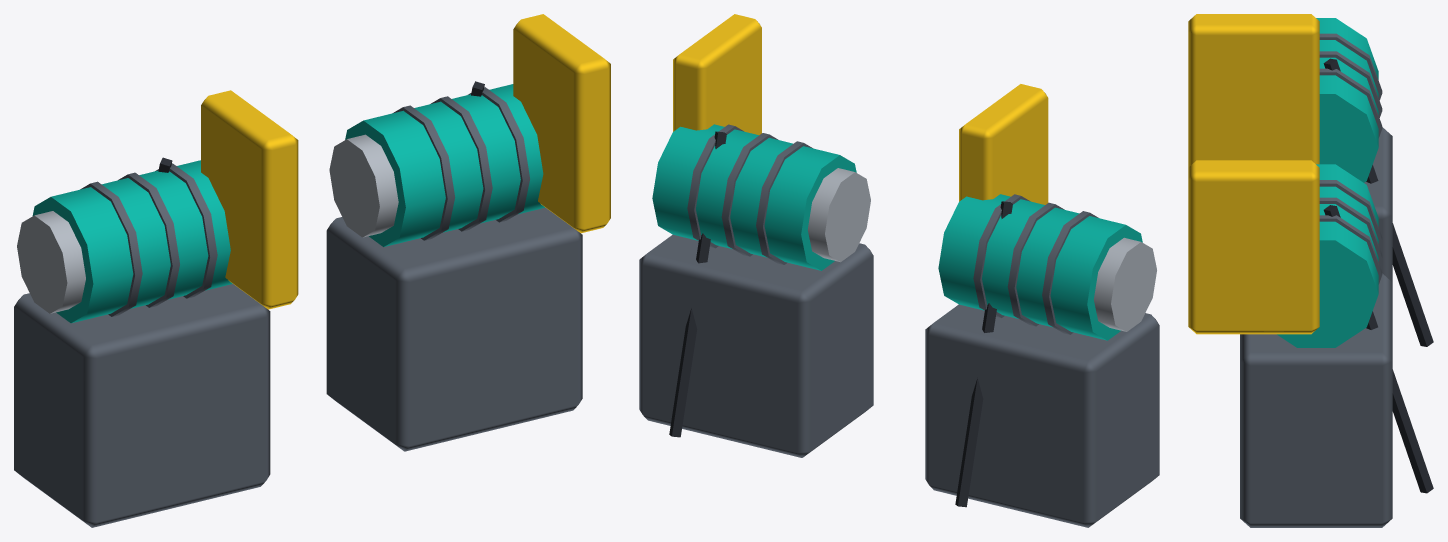
File: station_transport_ausstattung_2_2.glb
3 views of the same model, side by side, from view 1: azimuth 30°, elevation 25°; view 2: azimuth 150°, elevation 25°; view 3: azimuth 270°, elevation 25° (orthographic). The views are drawn at different scales.
Parts seen in each view (by area): view 1: station_transport_ausstattung_2_2; view 2: station_transport_ausstattung_2_2; view 3: station_transport_ausstattung_2_2.
Part boxes in pixels (x1,y1,x2,y2): station_transport_ausstattung_2_2: (14,14,610,527); station_transport_ausstattung_2_2: (639,14,1159,527); station_transport_ausstattung_2_2: (1188,14,1433,527).
Size of the model in its own units: 0.81 by 0.57 by 0.3545.
